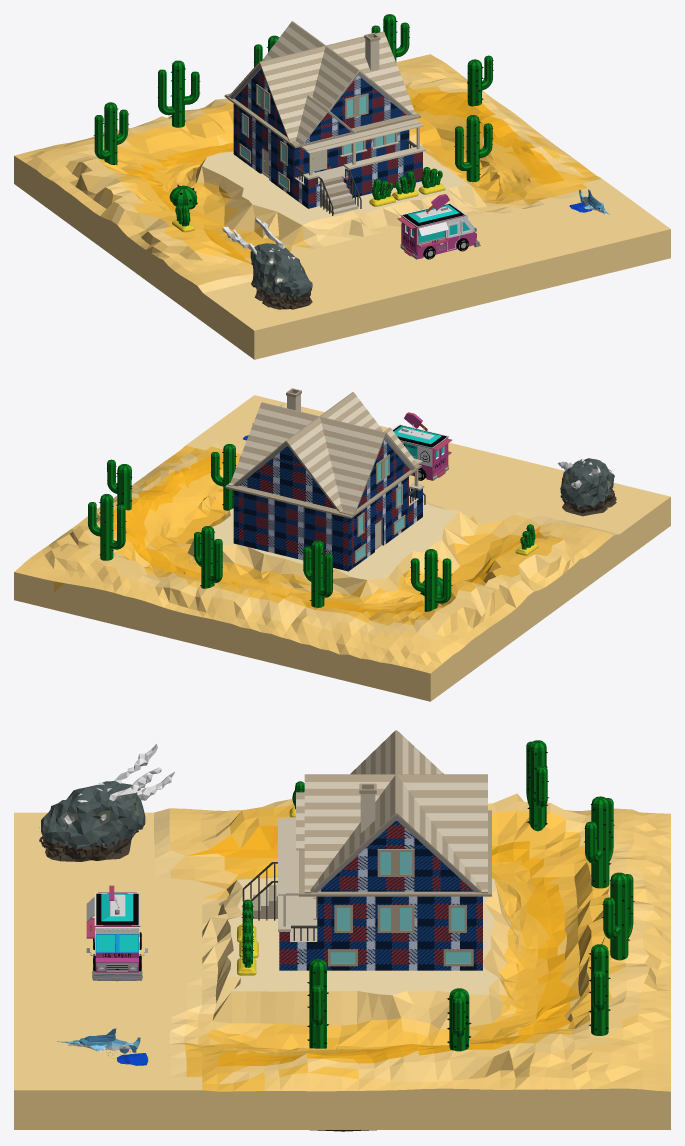
3 renders of one model, top to bottom at view 1: azimuth 30°, elevation 25°; view 2: azimuth 150°, elevation 25°; view 3: azimuth 270°, elevation 25°, orthographic. The views are drawn at different scales.
Visible parts, largest first — view 1: Cube.001, Cube.171, OBJRANDOM_METEORITE, VEHICLES_ICE_CREAM_TRUCK, Cylinder.037, Cylinder.044, Cylinder.045, Cylinder.038, Cylinder.042, Cylinder.039, Cylinder.041, Sphere.023 (+1 smaller); view 2: Cube.001, Cube.171, OBJRANDOM_METEORITE, VEHICLES_ICE_CREAM_TRUCK, Cylinder.042, Cylinder.045, Cylinder.044, Cylinder.043, Cylinder.037, Cylinder.038; view 3: Cube.001, Cube.171, OBJRANDOM_METEORITE, VEHICLES_ICE_CREAM_TRUCK, Cylinder.043, Cylinder.044, Cylinder.045, Cylinder.042, Cylinder.037, Cylinder.038, ANIMAL_PEZ_ESPADA, Cylinder.041.
Part boxes in pixels (left/top/right/bottom): Cube.001: left=14, top=54, right=670, bottom=359; Cube.171: left=224, top=21, right=425, bottom=215; OBJRANDOM_METEORITE: left=222, top=218, right=312, bottom=309; VEHICLES_ICE_CREAM_TRUCK: left=397, top=194, right=480, bottom=259; Cylinder.037: left=454, top=115, right=493, bottom=182; Cylinder.044: left=157, top=60, right=200, bottom=127; Cylinder.045: left=93, top=102, right=129, bottom=164; Cylinder.038: left=467, top=55, right=493, bottom=106; Cylinder.042: left=371, top=14, right=409, bottom=62; Cylinder.039: left=369, top=179, right=395, bottom=206; Cylinder.041: left=418, top=167, right=445, bottom=194; Sphere.023: left=169, top=184, right=197, bottom=209; Cube.001: left=14, top=395, right=670, bottom=701; Cube.171: left=225, top=388, right=425, bottom=571; OBJRANDOM_METEORITE: left=558, top=458, right=616, bottom=516; VEHICLES_ICE_CREAM_TRUCK: left=392, top=412, right=451, bottom=480; Cylinder.042: left=88, top=494, right=126, bottom=560; Cylinder.045: left=410, top=549, right=452, bottom=611; Cylinder.044: left=303, top=540, right=333, bottom=607; Cylinder.043: left=193, top=526, right=222, bottom=588; Cylinder.037: left=211, top=444, right=240, bottom=510; Cylinder.038: left=107, top=459, right=131, bottom=510; Cube.001: left=14, top=793, right=670, bottom=1129; Cube.171: left=242, top=730, right=491, bottom=970; OBJRANDOM_METEORITE: left=39, top=744, right=174, bottom=861; VEHICLES_ICE_CREAM_TRUCK: left=86, top=885, right=147, bottom=981; Cylinder.043: left=602, top=872, right=634, bottom=960; Cylinder.044: left=584, top=796, right=614, bottom=888; Cylinder.045: left=526, top=740, right=548, bottom=831; Cylinder.042: left=588, top=944, right=610, bottom=1035; Cylinder.037: left=307, top=959, right=328, bottom=1048; Cylinder.038: left=447, top=988, right=471, bottom=1051; ANIMAL_PEZ_ESPADA: left=57, top=1028, right=148, bottom=1065; Cylinder.041: left=237, top=932, right=256, bottom=975.
Size of the model in its own units: 4002 by 1693 by 4001.
Materials: 42 (3 with a texture image).
